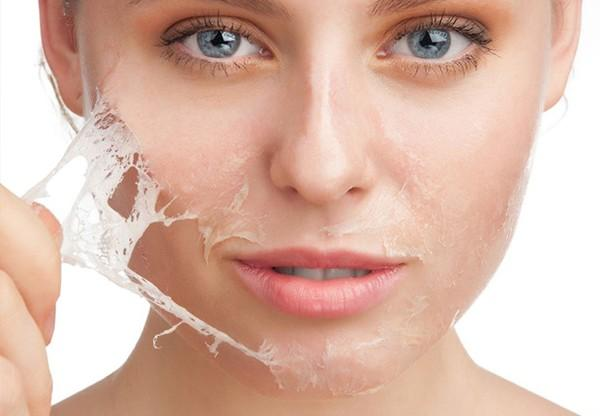Dry-Skin: (53, 77, 262, 259), (140, 275, 373, 397), (325, 203, 438, 258)
